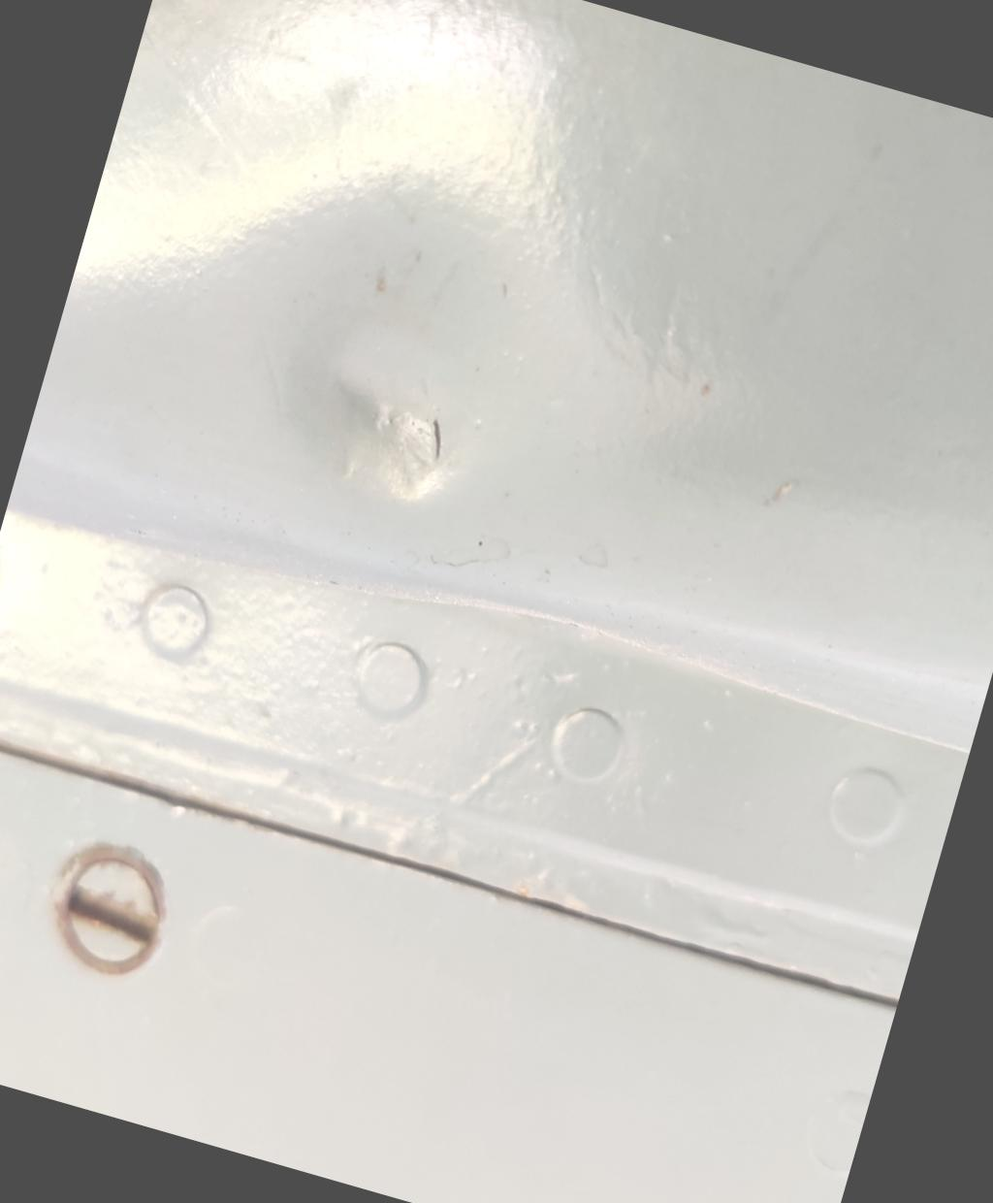dent: (218, 247, 553, 581)
